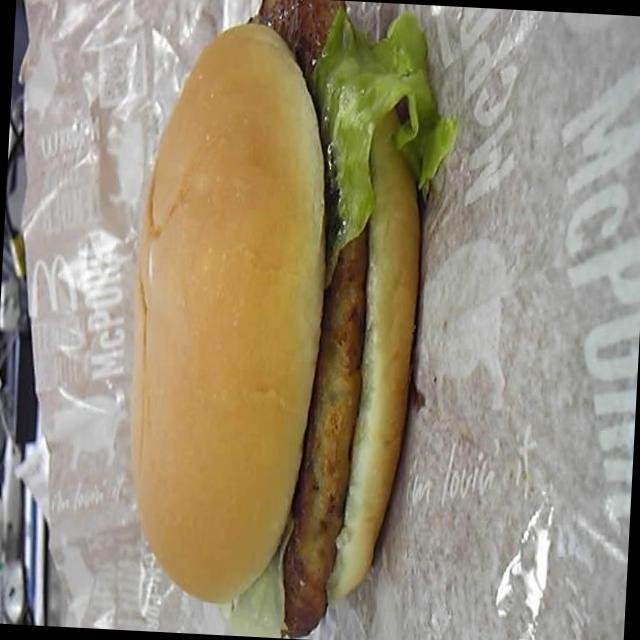Hamburger: (118, 0, 463, 640)
